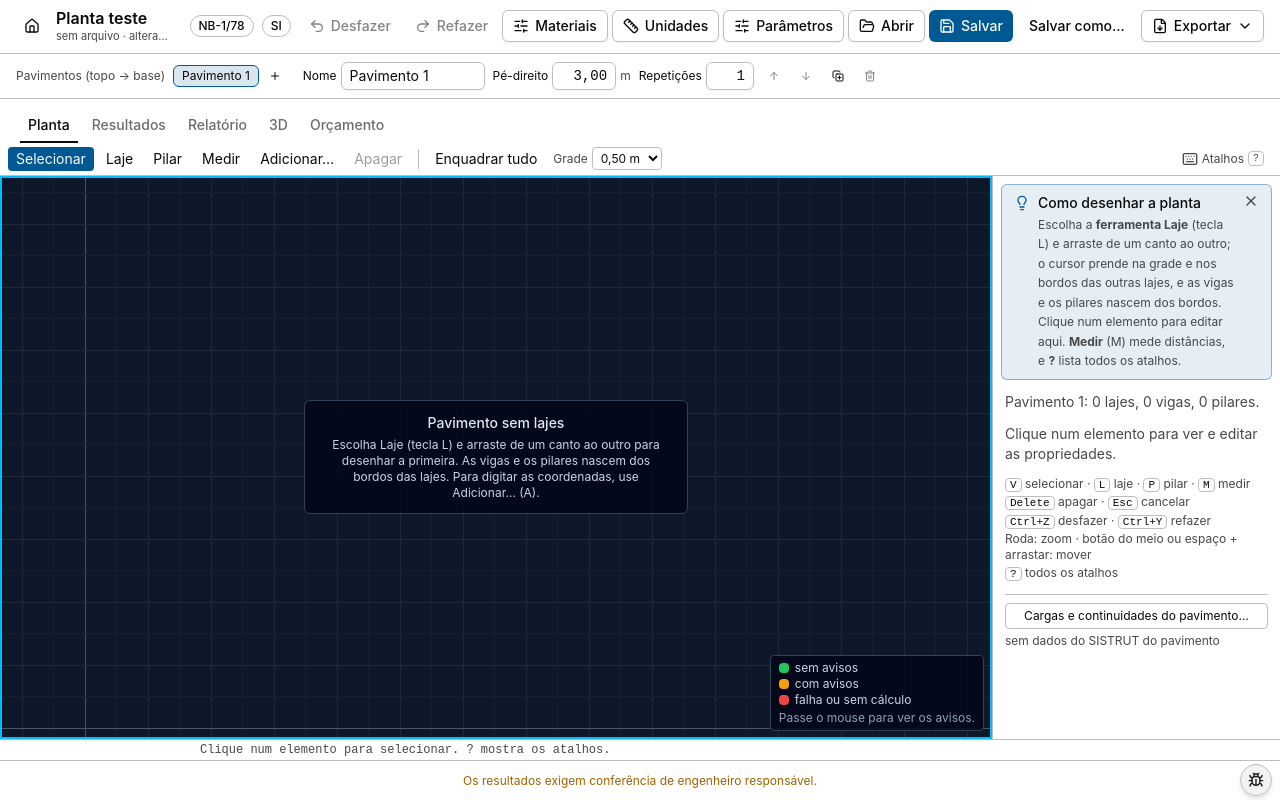
Test: ferramentas do editor › ? abre a lista de atalhos, com as ferramentas novas
The image size is (1280, 800).
Type keys "?"
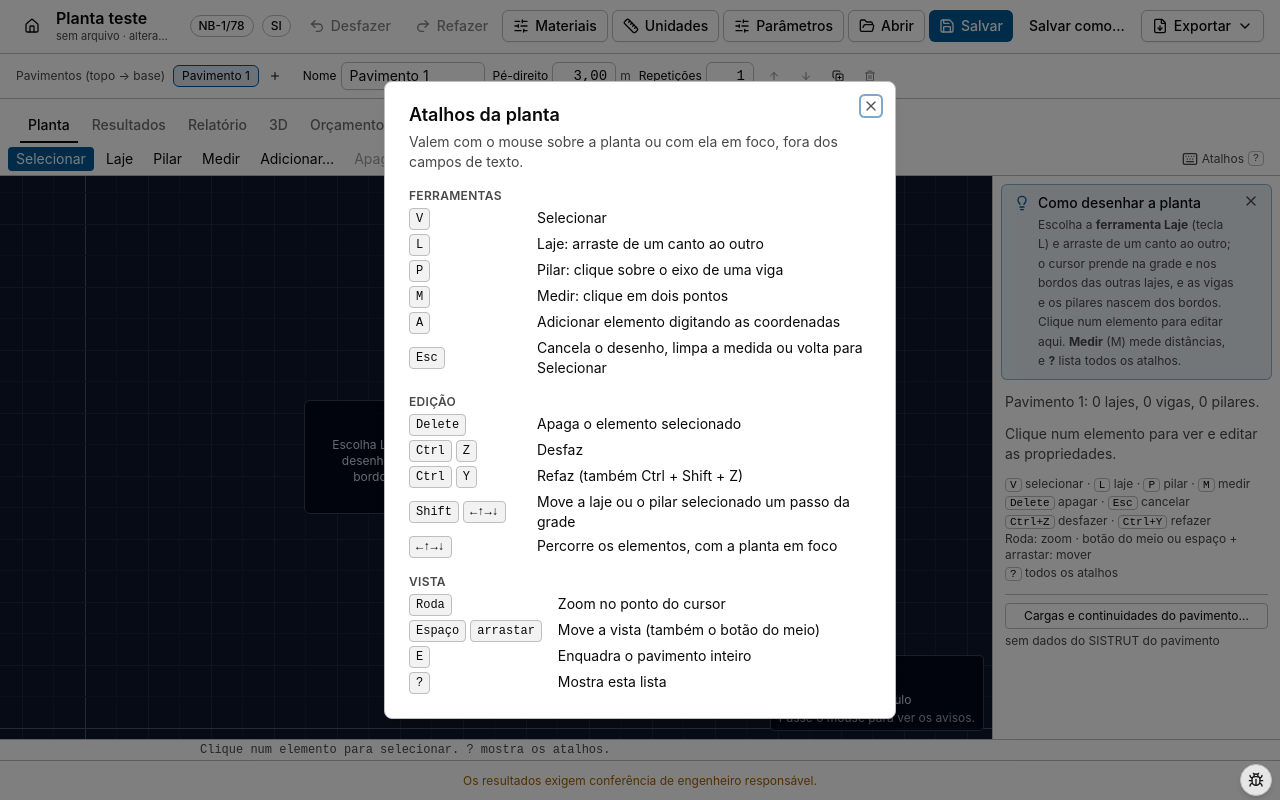
Expected: the text "Medir: clique em dois pontos" is shown, [537, 287, 728, 304]
Expected: the text "Enquadra o pavimento inteiro" is shown, [558, 647, 751, 664]
Press Escape
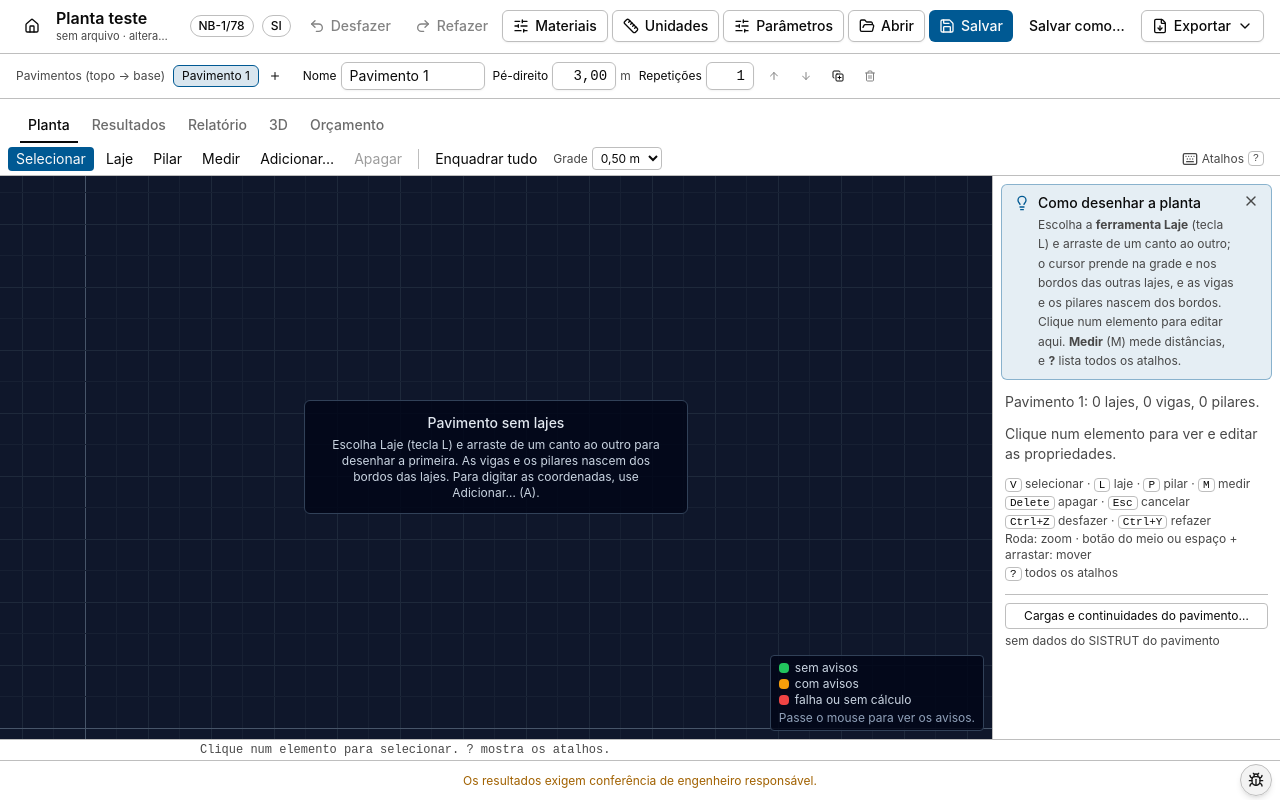
Expected: the dialog is gone
Note: o botão da barra abre a mesma lista
Click the button "Atalhos ?" at point(1223, 158), box [1174, 148, 1272, 168]
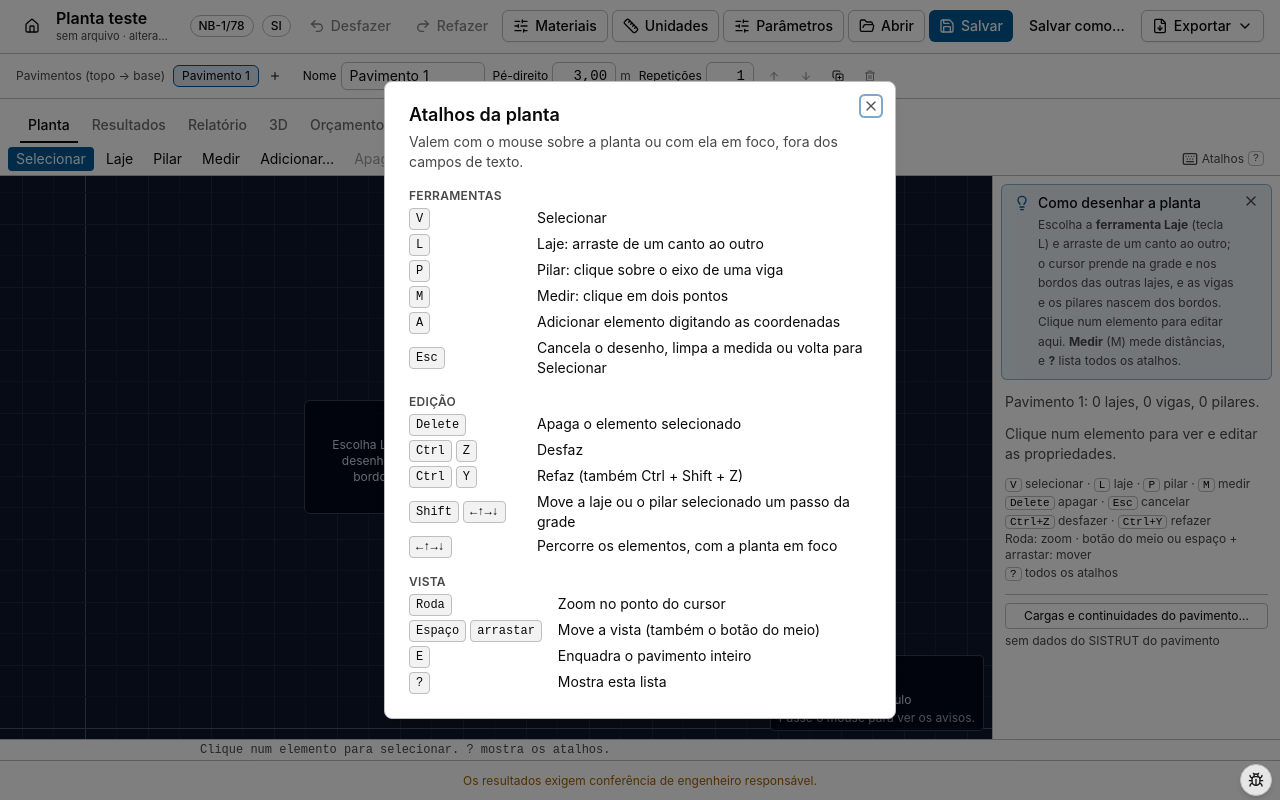
Expected: the dialog "Atalhos da planta" is shown, [384, 81, 896, 719]
